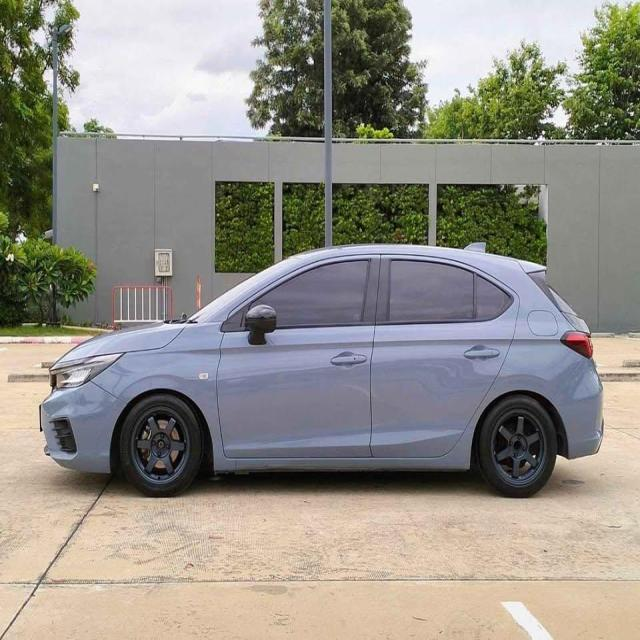Hatchback: (39, 243, 607, 499)
